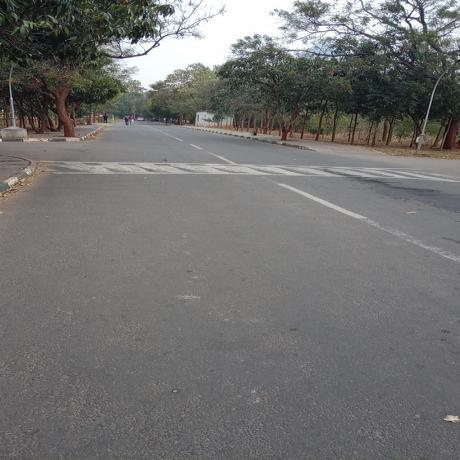Speed Bump: (27, 160, 459, 179)
